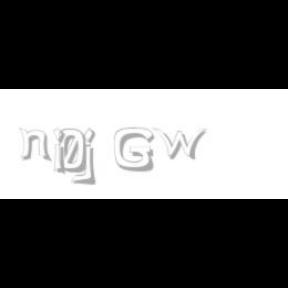0: (58, 128, 89, 174)
G: (114, 128, 154, 172)
i: (53, 128, 69, 176)
j: (80, 128, 110, 186)
n: (18, 128, 52, 162)
w: (152, 128, 212, 160)
